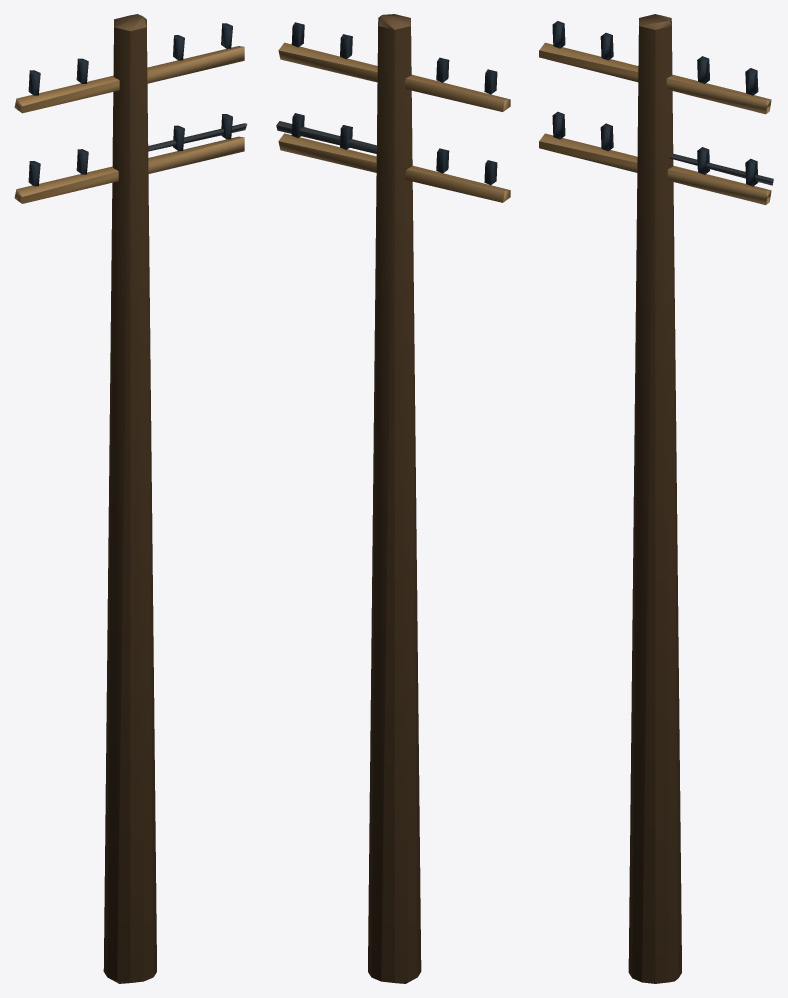
Rendered from telegraph-pole-v1.lod2.glb.
3 views of the same model, side by side, from view 1: azimuth 30°, elevation 25°; view 2: azimuth 150°, elevation 25°; view 3: azimuth 330°, elevation 25° (orthographic).
Visible parts, largest first — view 1: telegraph-pole-v1.lod2; view 2: telegraph-pole-v1.lod2; view 3: telegraph-pole-v1.lod2.
Part boxes in pixels (<box>): telegraph-pole-v1.lod2: <box>14,14,247,983</box>; telegraph-pole-v1.lod2: <box>276,14,510,983</box>; telegraph-pole-v1.lod2: <box>539,14,773,983</box>.
Bounding box in the file's own units: 2.37 × 9.5 × 0.48.
